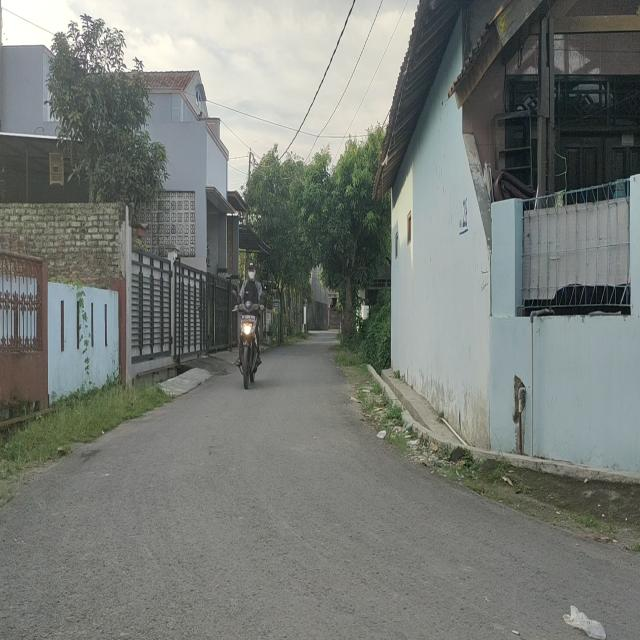no-helmet: (246, 258, 256, 281)
